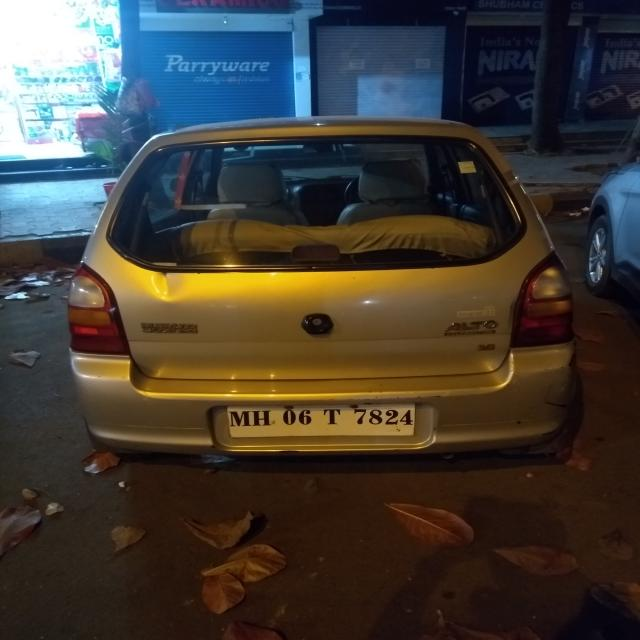Number-Plate: (229, 402, 415, 438)
